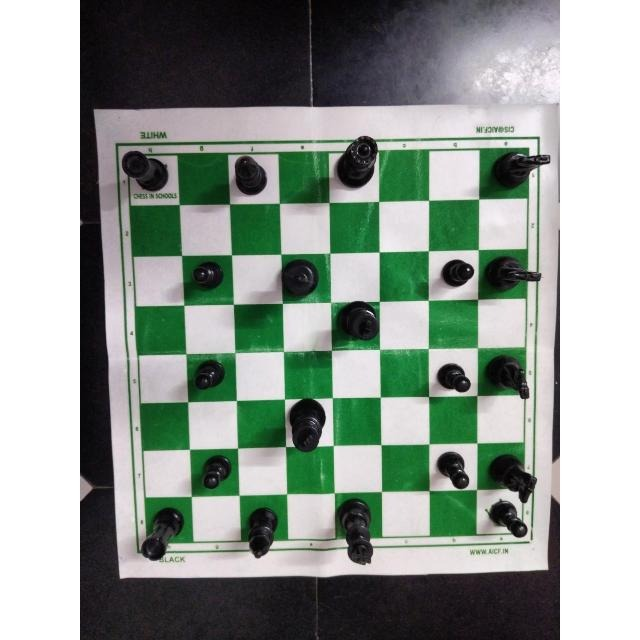black-bishop: (242, 505, 282, 563), (228, 151, 270, 198)
black-king: (335, 496, 379, 570), (286, 395, 329, 456), (332, 295, 381, 348), (281, 254, 327, 306)
black-knight: (483, 250, 548, 302), (483, 449, 541, 505), (489, 147, 553, 193), (483, 349, 533, 407)
black-pawn: (482, 496, 530, 544), (190, 449, 236, 496), (431, 446, 475, 494), (432, 356, 473, 400), (188, 355, 229, 397), (436, 250, 475, 294), (186, 254, 225, 294)
black-queen: (332, 130, 384, 195)
black-rook: (136, 507, 188, 561), (117, 147, 173, 197)
